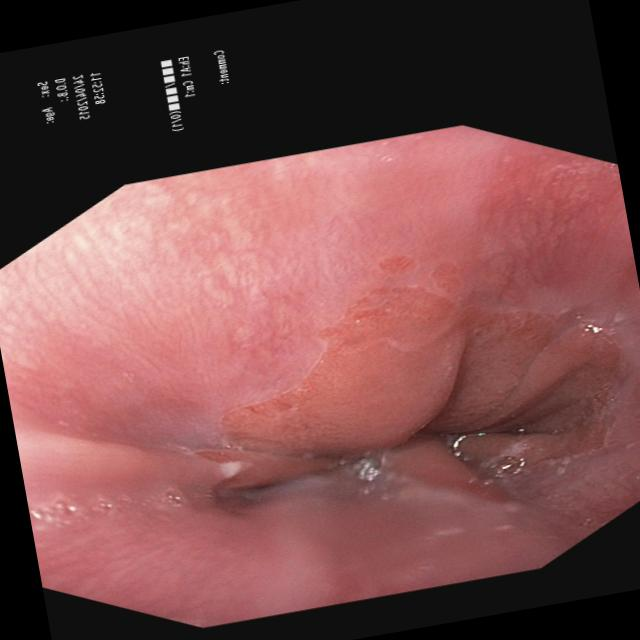Normal-Z-Line: (205, 251, 626, 515)
